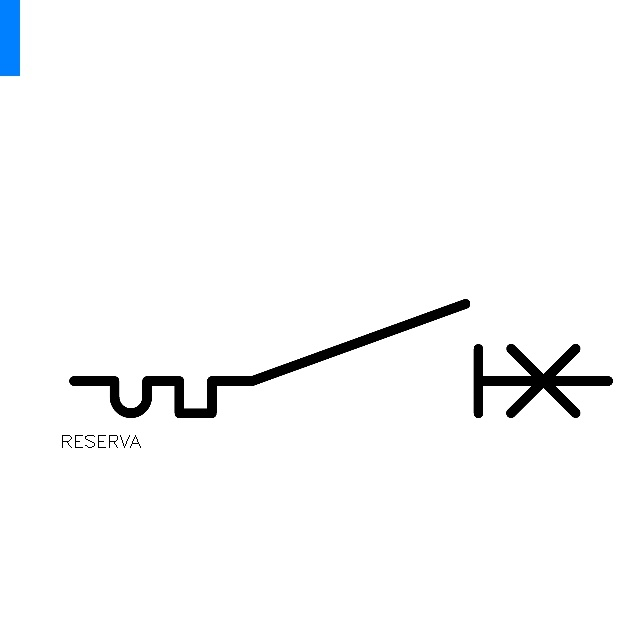interruptor_termomagnetico: (60, 290, 622, 427)
